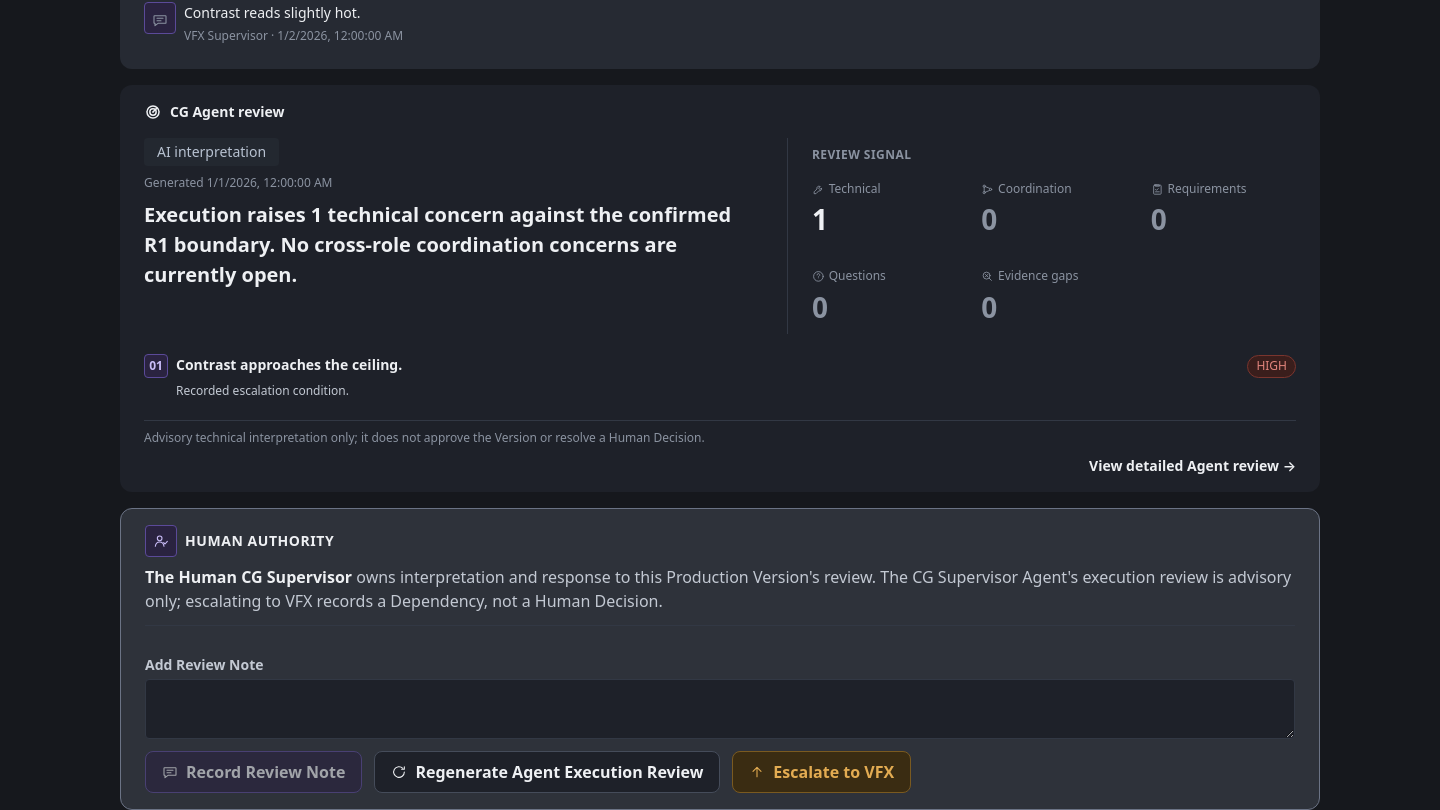
Test case: VersionReviewPage › strips the verified real CG D1 Golden Journey implementation labels from the Agent Review summary, decision-relevant preview items, and the expanded Detailed Ag
(page scrolled)
Expected: the text "Execution raises 1 technical concern against the confirmed R1 boundary. No cross-role coordination concerns are currentl" is shown, [144,201,731,288]
Expected: the text "Contrast approaches the ceiling." is shown, [176,355,402,374]
Click the text "View detailed Agent review →" at {"x": 1192, "y": 466}, box [1089,455,1296,476]
(page scrolled)
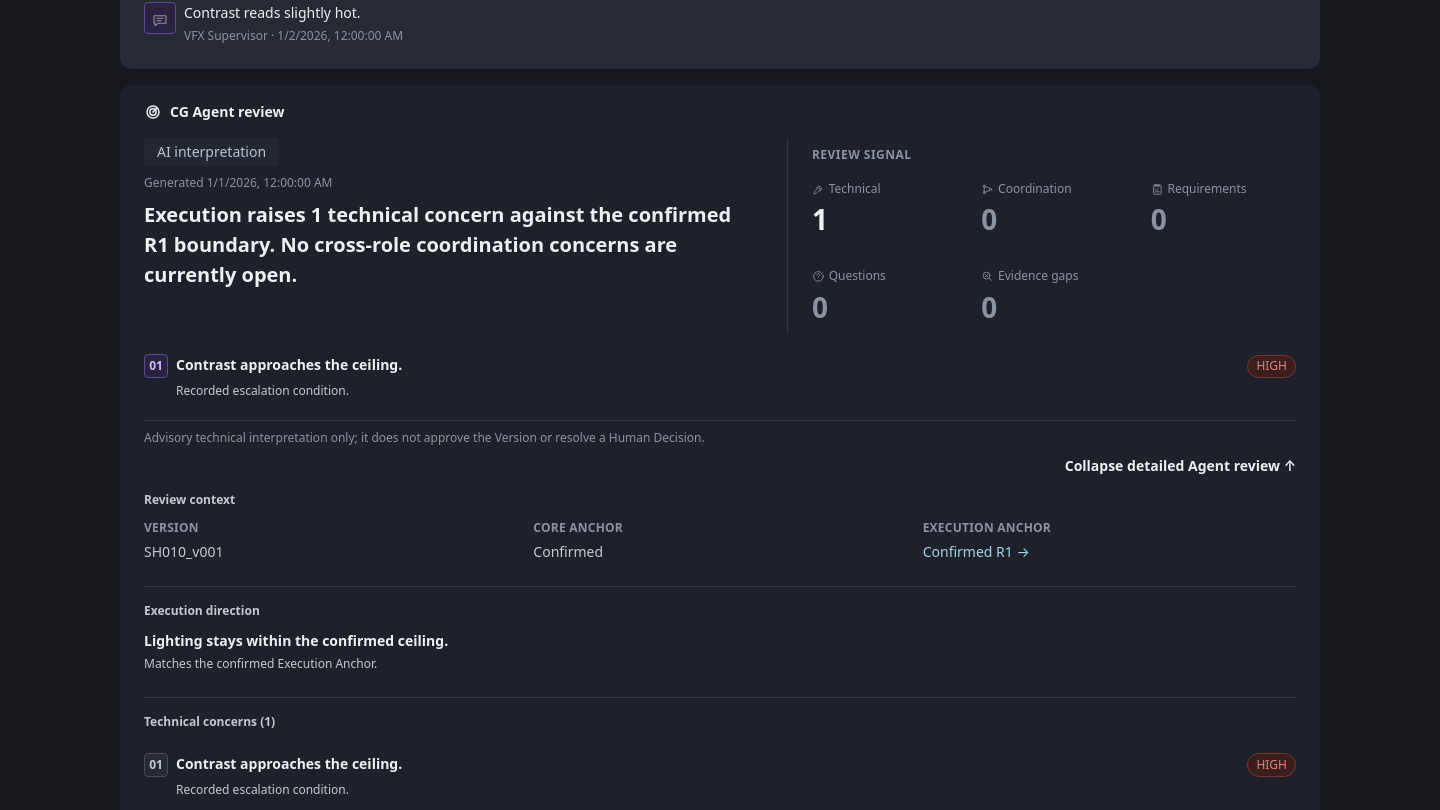
Expected: the 1st text "Recorded escalation condition." is shown, [176,382,349,399]
Result: the text "Lighting stays within the confirmed ceiling." is shown at [144,631,448,650]
Result: the text "Matches the confirmed Execution Anchor." is shown at [144,655,377,672]
